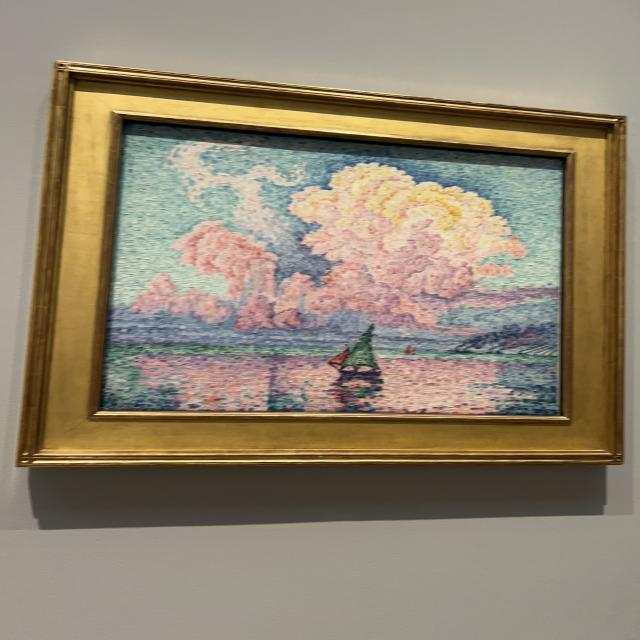sunrise: (99, 121, 565, 416)
